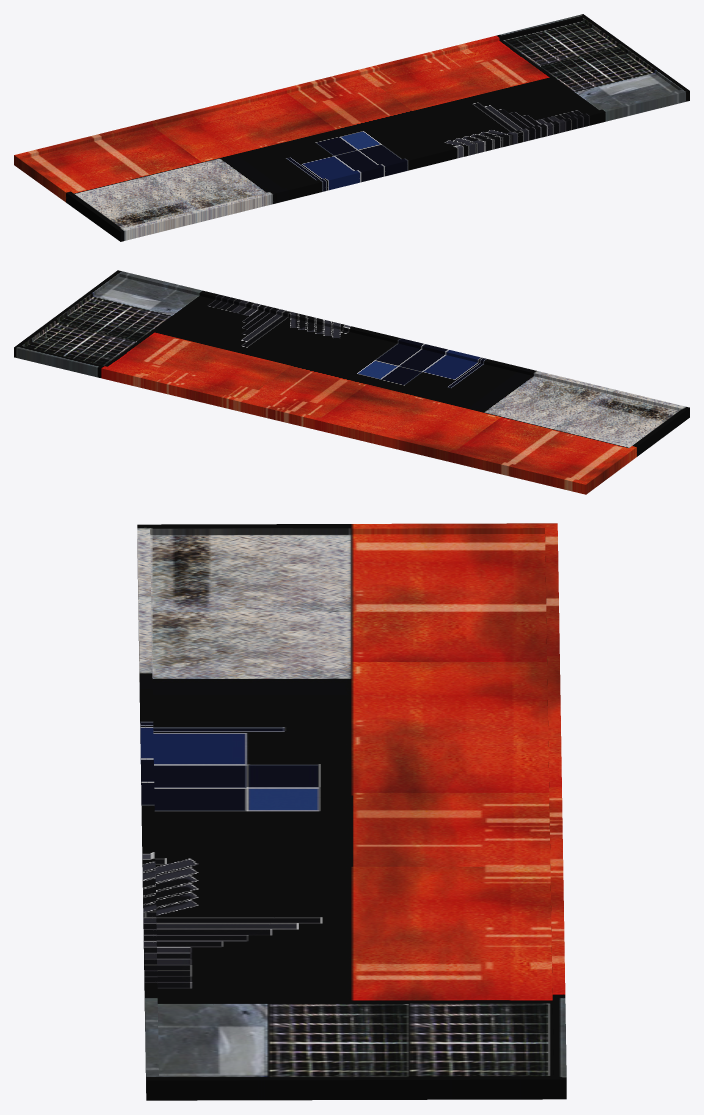
Rendered from aaaaaa3.obj.
3 renders of one model, top to bottom at view 1: azimuth 30°, elevation 25°; view 2: azimuth 150°, elevation 25°; view 3: azimuth 270°, elevation 25°, orthographic. The views are drawn at different scales.
Bounding box in the file's own units: 8.93 × 0.1484 × 2.91.
1 material, 1 textured.
